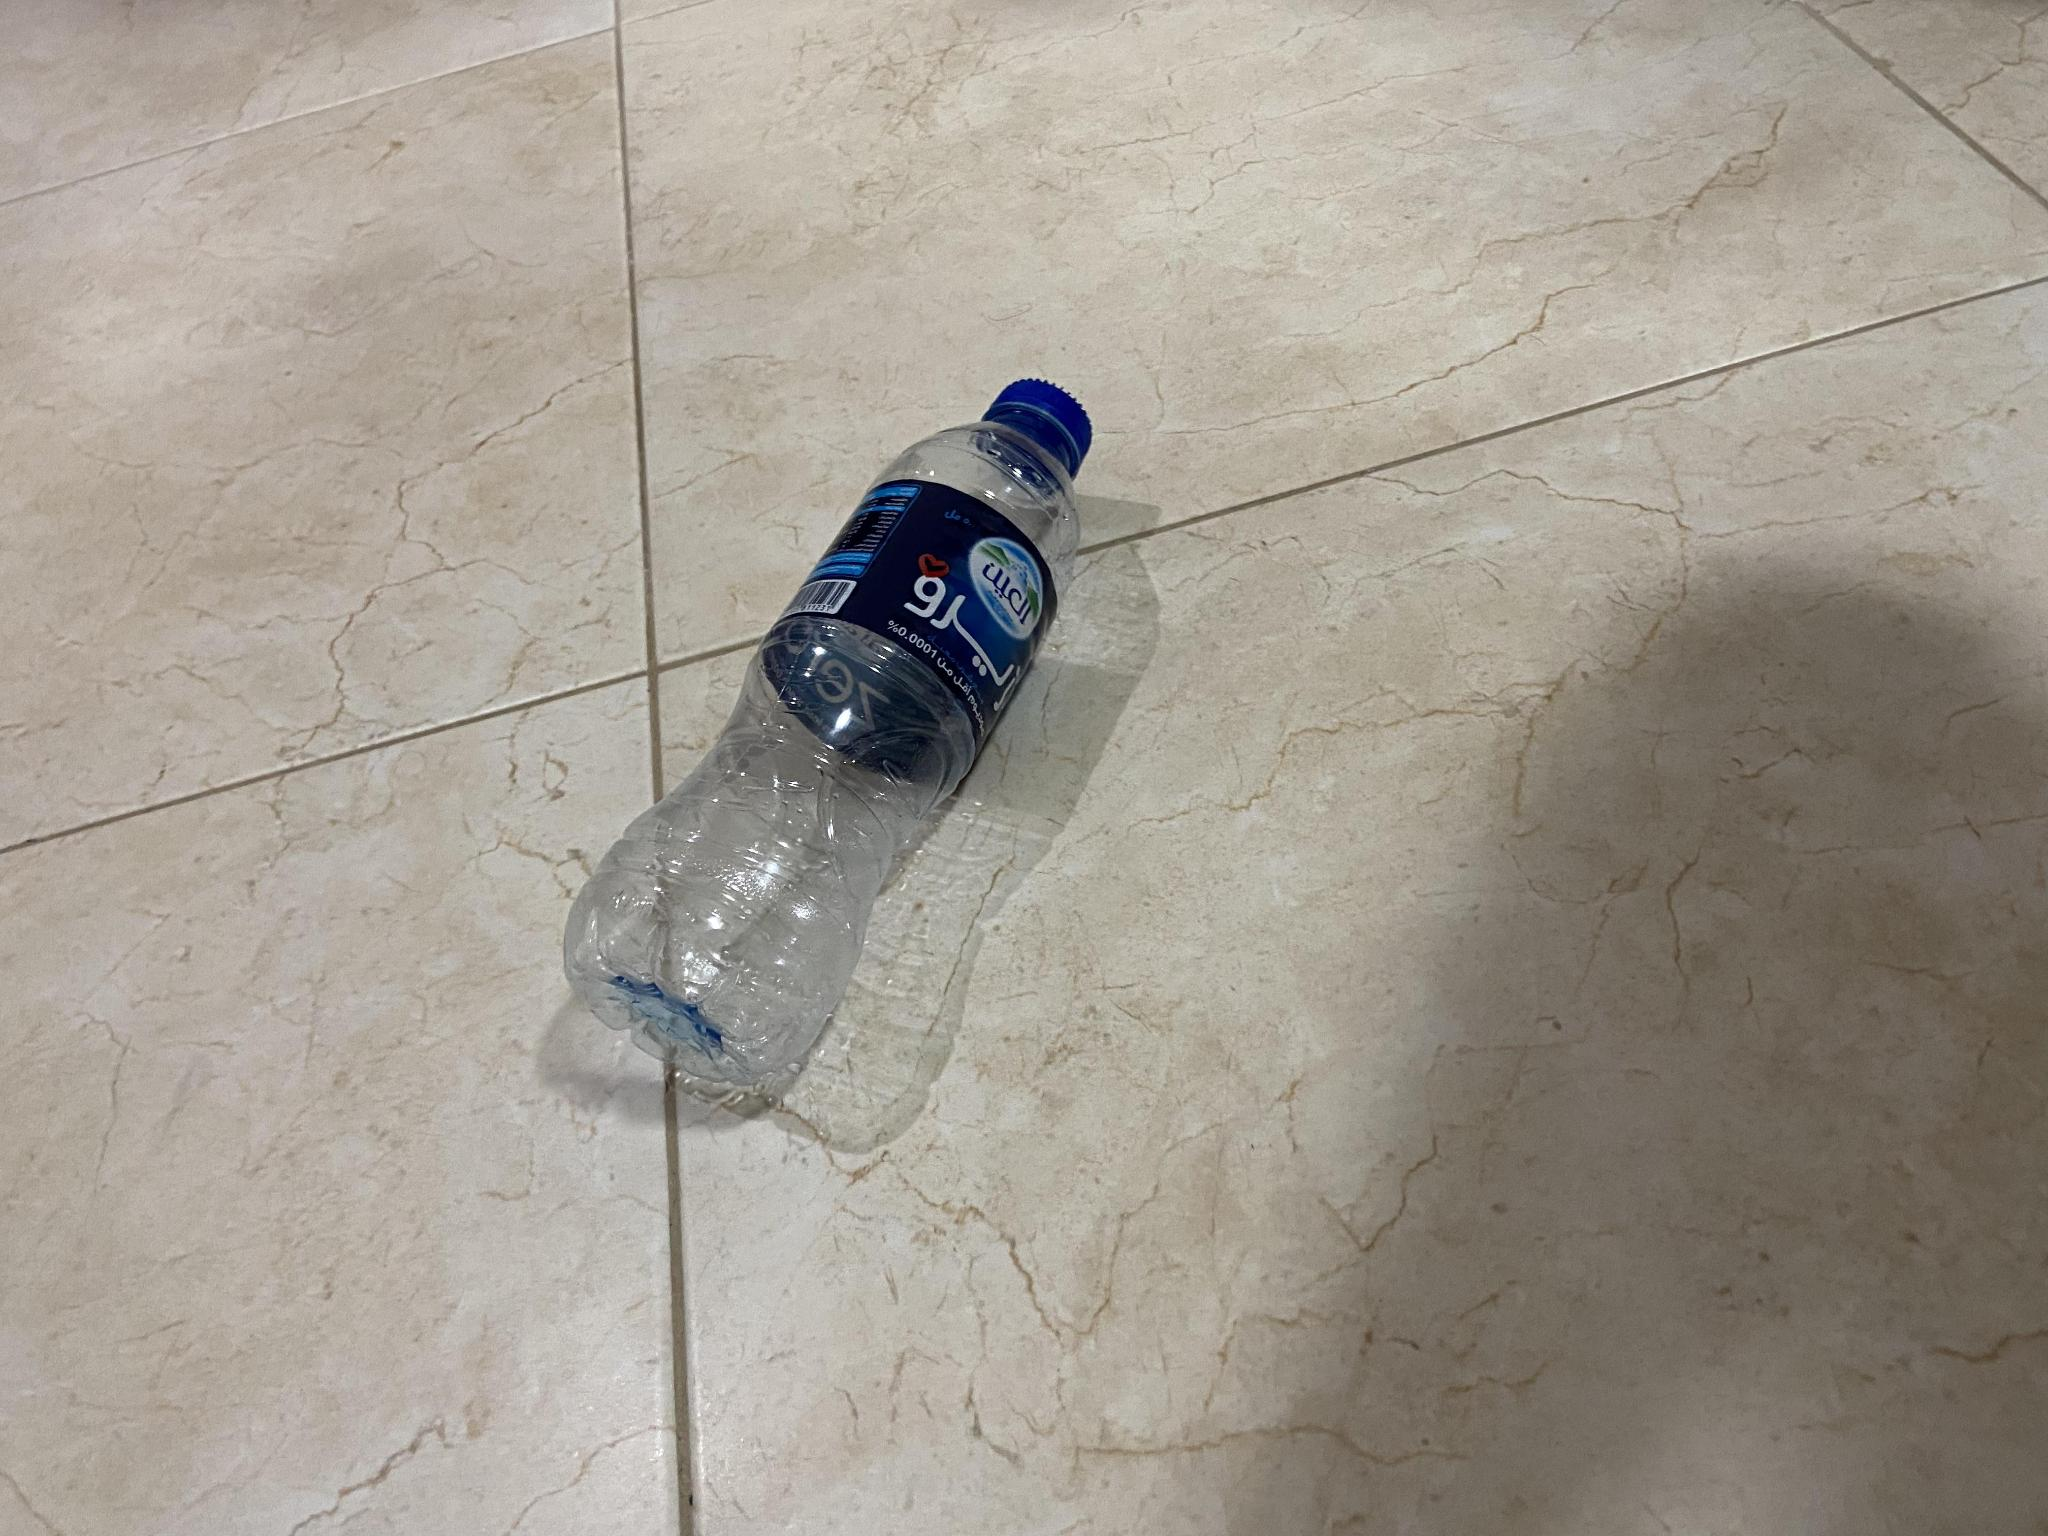bottle: (545, 345, 1087, 1128)
